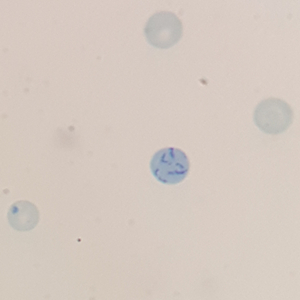aggregate reticulocyte: (148, 146, 191, 186)
erythrocyte: (252, 96, 297, 136), (143, 10, 185, 51), (5, 199, 42, 233)
